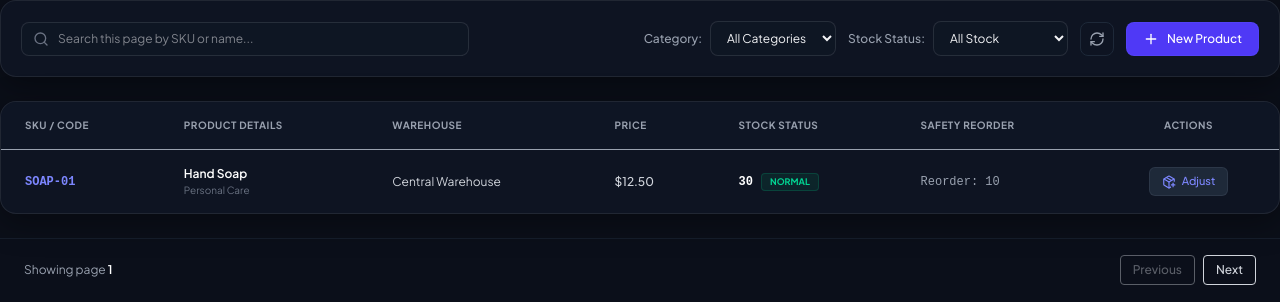
catalog › moves between pages and disables navigation at both ends
Check: the text "Hand Soap" is shown, box [184,166,247,181]
Check: the button "Previous" is disabled, box [1120,255,1195,285]
Click the button "Next".
click(1230, 270)  # box [1203,255,1256,285]
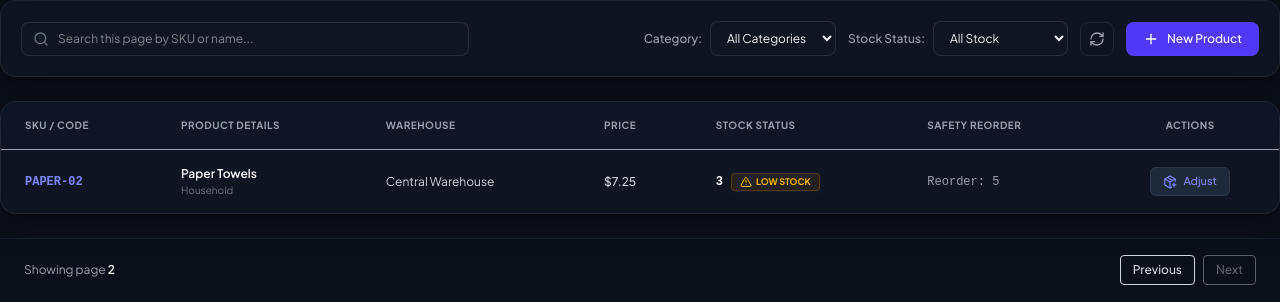
Check: the text "Paper Towels" is shown, box [181,166,257,181]
Check: the text "Hand Soap" is gone
Check: the button "Next" is disabled, box [1203,255,1256,285]
Click the button "Previous".
click(1157, 270)  # box [1120,255,1195,285]
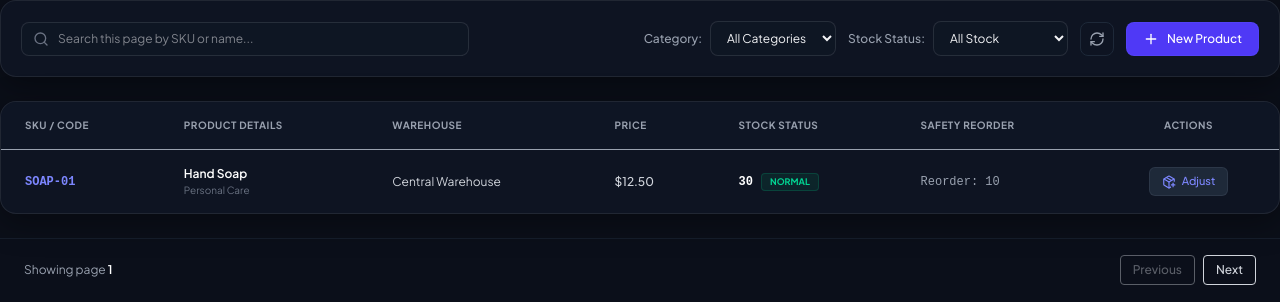
Check: the text "Hand Soap" is shown, box [184,166,247,181]
